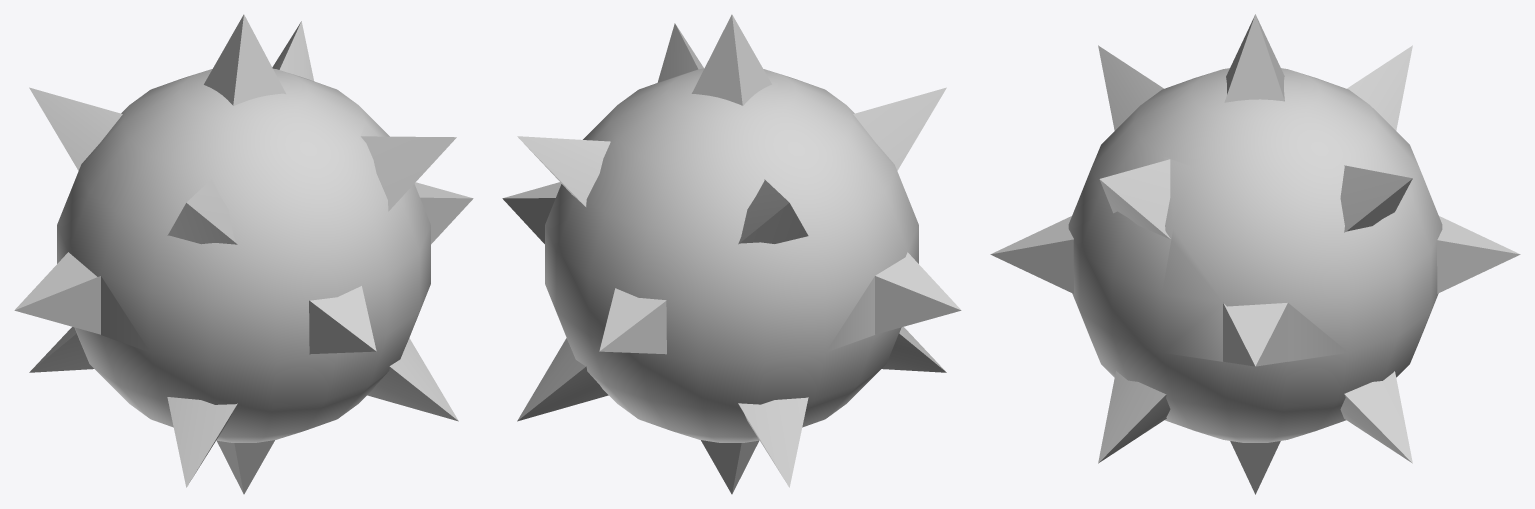
Rendered from Spike C.fbx.
3 views of the same model, side by side, from view 1: azimuth 30°, elevation 25°; view 2: azimuth 150°, elevation 25°; view 3: azimuth 270°, elevation 25° (orthographic).
Parts seen in each view (by area): view 1: Spike C; view 2: Spike C; view 3: Spike C.
Part boxes in pixels (<box>): Spike C: <box>14,14,473,494</box>; Spike C: <box>502,14,961,494</box>; Spike C: <box>990,14,1520,494</box>.
Size of the model in its own units: 116 by 116 by 116.
